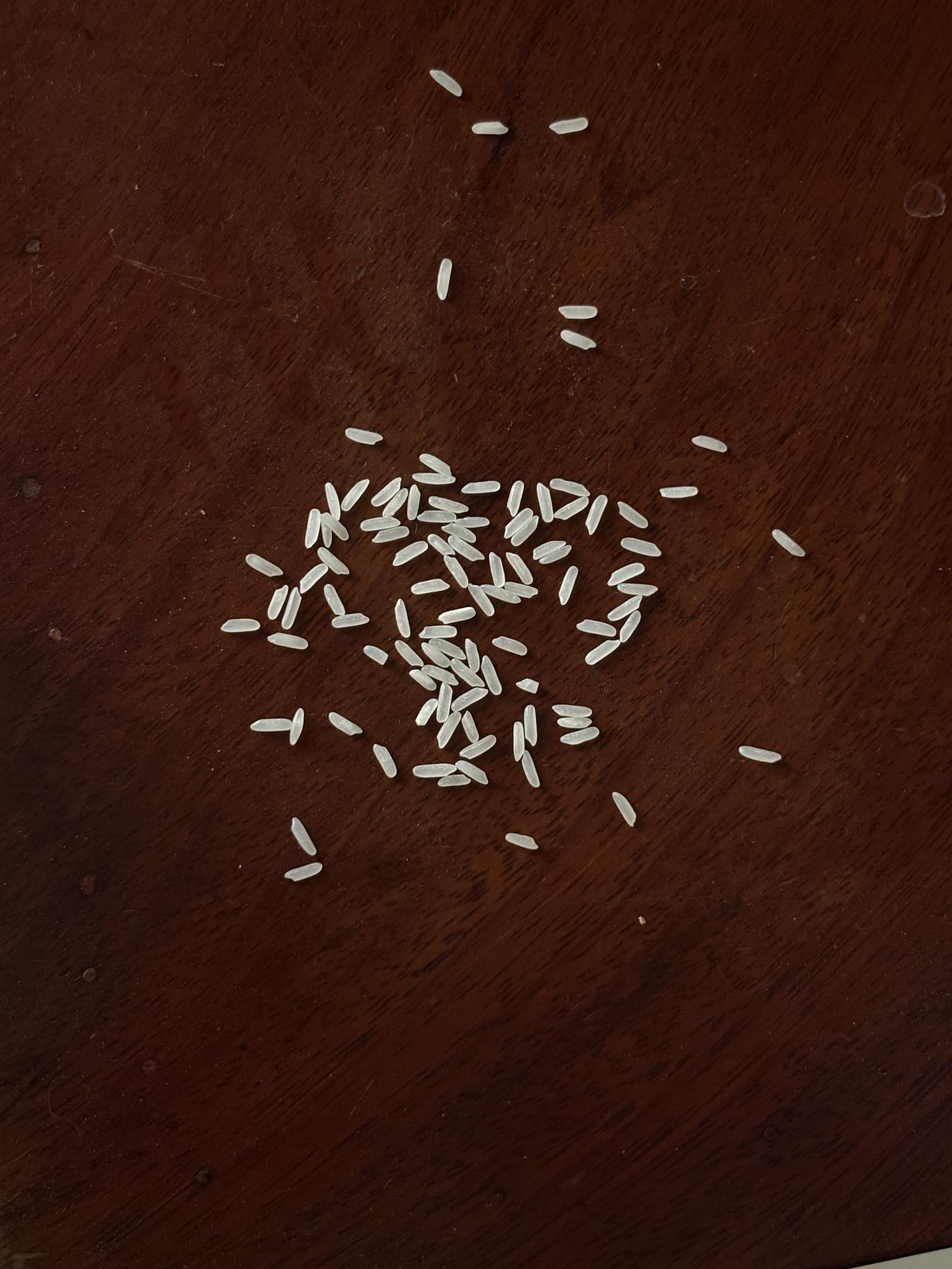Rice-th-y-nh: (290, 817, 318, 856), (450, 658, 485, 689), (280, 588, 304, 630), (436, 711, 462, 749), (460, 734, 497, 760), (467, 583, 495, 617), (426, 637, 467, 660), (448, 536, 484, 562), (606, 595, 642, 621), (451, 686, 488, 711), (430, 69, 463, 97), (480, 656, 503, 696), (372, 743, 398, 778), (772, 529, 805, 556), (507, 722, 529, 762), (421, 664, 459, 687), (299, 564, 328, 594), (504, 508, 533, 538), (510, 516, 539, 546), (318, 548, 349, 576), (342, 479, 369, 511), (607, 563, 644, 586), (586, 639, 620, 664), (455, 760, 489, 785), (612, 792, 637, 826), (372, 478, 402, 506), (434, 683, 455, 723), (585, 496, 607, 534), (519, 750, 541, 788), (507, 552, 533, 584), (246, 554, 282, 577), (481, 584, 520, 605), (558, 566, 579, 605), (328, 712, 362, 736), (394, 640, 424, 667), (393, 542, 428, 565), (412, 762, 456, 780), (554, 497, 588, 520), (421, 643, 451, 669), (444, 556, 469, 587), (521, 705, 540, 745), (323, 584, 346, 617), (382, 489, 408, 518), (618, 502, 647, 528), (560, 726, 599, 745), (576, 619, 617, 637), (267, 632, 308, 650), (267, 585, 288, 620), (323, 513, 349, 541), (285, 862, 323, 881), (550, 116, 588, 135), (550, 479, 590, 497), (443, 522, 477, 543), (420, 454, 452, 476), (288, 708, 307, 745), (536, 483, 554, 522), (393, 599, 411, 638), (492, 636, 527, 656), (619, 611, 641, 642), (621, 538, 661, 555), (739, 746, 781, 762), (463, 638, 482, 673), (429, 496, 468, 513), (460, 711, 480, 744), (439, 607, 475, 625), (415, 698, 438, 726), (488, 552, 506, 587), (561, 331, 596, 349), (250, 718, 292, 733), (325, 483, 342, 520), (533, 540, 566, 559), (505, 580, 538, 599), (305, 509, 321, 548), (618, 581, 657, 597), (409, 669, 437, 691), (331, 612, 369, 628), (437, 259, 452, 299), (428, 534, 455, 556), (539, 546, 572, 564), (221, 618, 260, 633), (372, 527, 408, 543), (346, 428, 382, 444), (506, 832, 538, 850), (418, 509, 456, 524), (361, 517, 401, 531), (552, 704, 592, 718), (507, 481, 523, 516), (411, 579, 448, 594), (693, 436, 727, 452), (406, 485, 421, 520), (419, 625, 456, 639), (364, 644, 389, 664), (437, 773, 470, 788), (462, 481, 500, 494), (557, 716, 592, 730), (473, 121, 508, 135), (560, 305, 597, 318), (413, 473, 454, 484), (453, 516, 489, 528), (660, 487, 697, 498), (320, 517, 333, 548), (516, 678, 539, 693)
